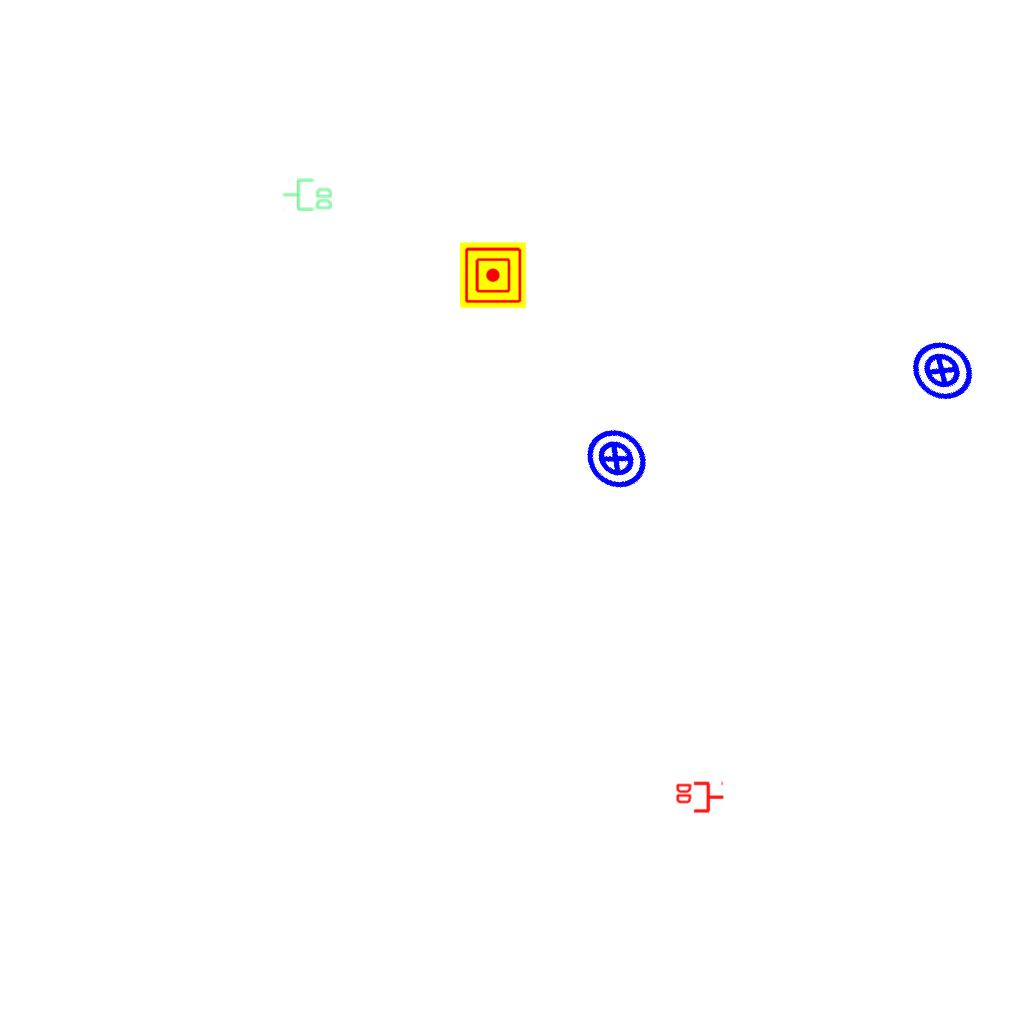Datenanschluss_zweifach: (674, 781, 725, 815), (282, 178, 333, 212)
NAM-Nichtautomatischer_Melder: (460, 242, 526, 308)
Taster_beleuchtet: (569, 412, 663, 506), (896, 325, 988, 417)
